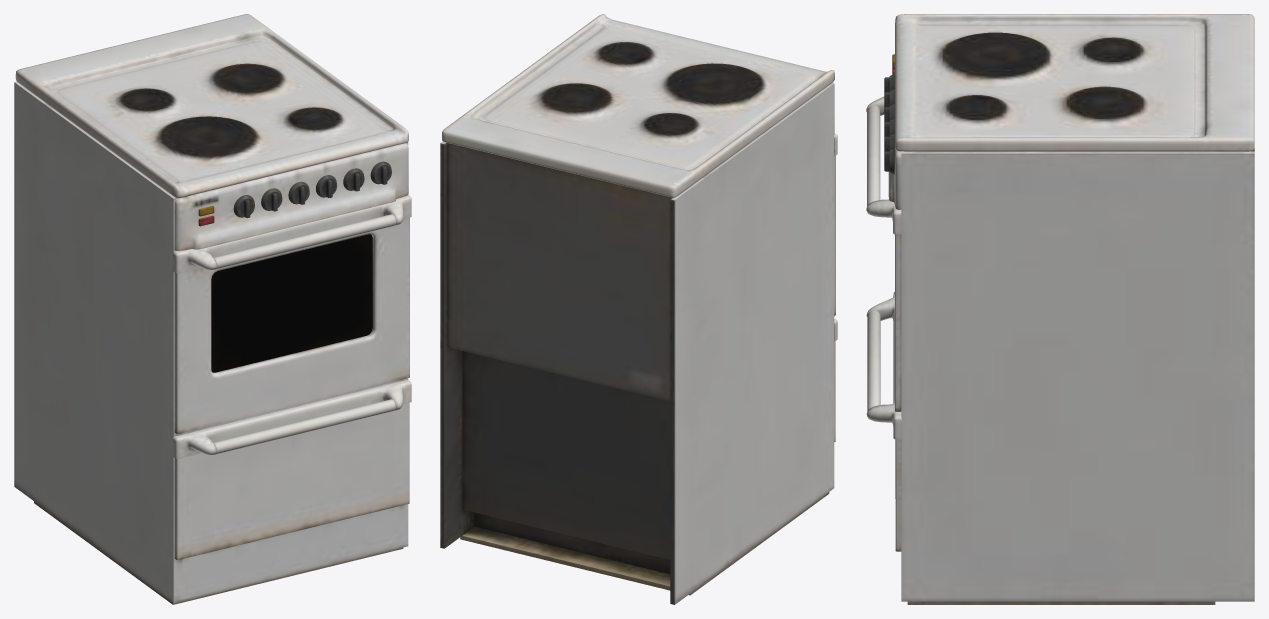
File: electric_stove.glb
3 views of the same model, side by side, from view 1: azimuth 30°, elevation 25°; view 2: azimuth 150°, elevation 25°; view 3: azimuth 270°, elevation 25° (orthographic). The views are drawn at different scales.
Visible parts, largest first — view 1: stovetop, door_top, handle_bottom_attachment; view 2: stovetop; view 3: stovetop, door_top, handle_bottom_attachment.
Boxes of the visible parts, box(x1,y1,x2,y2) form: stovetop: box(14, 14, 408, 604); door_top: box(173, 195, 411, 433); handle_bottom_attachment: box(173, 380, 411, 559); stovetop: box(440, 14, 834, 604); stovetop: box(888, 14, 1254, 604); door_top: box(866, 96, 901, 411); handle_bottom_attachment: box(866, 291, 901, 551).
Bounding box in the file's own units: 0.5026 × 0.8587 × 0.6476.
2 materials, 2 textured.
